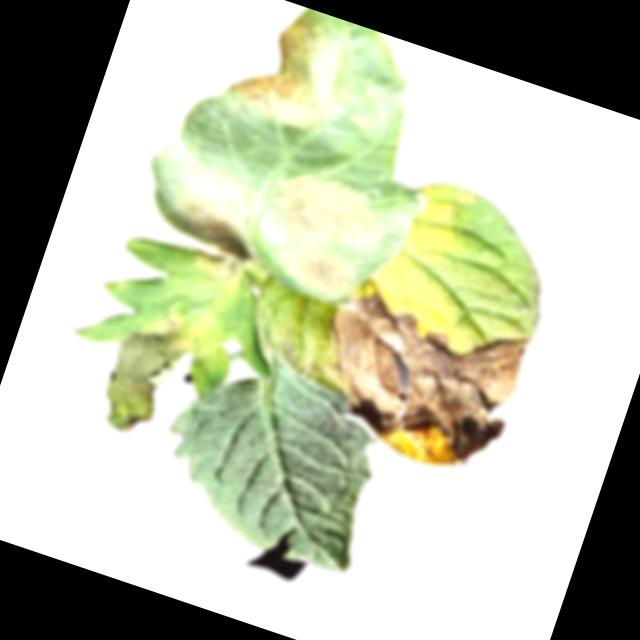Late_blight: (295, 278, 533, 485), (219, 1, 355, 139), (89, 297, 206, 446), (259, 160, 394, 266), (157, 162, 282, 269), (268, 236, 364, 307), (188, 247, 247, 288)
healthy: (141, 334, 405, 579)
